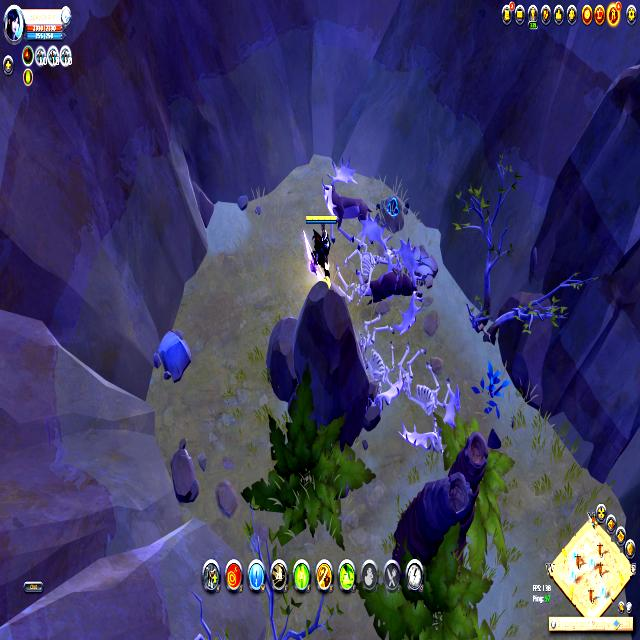mob: (320, 153, 370, 245), (358, 262, 416, 308)
red: (304, 210, 336, 281)
